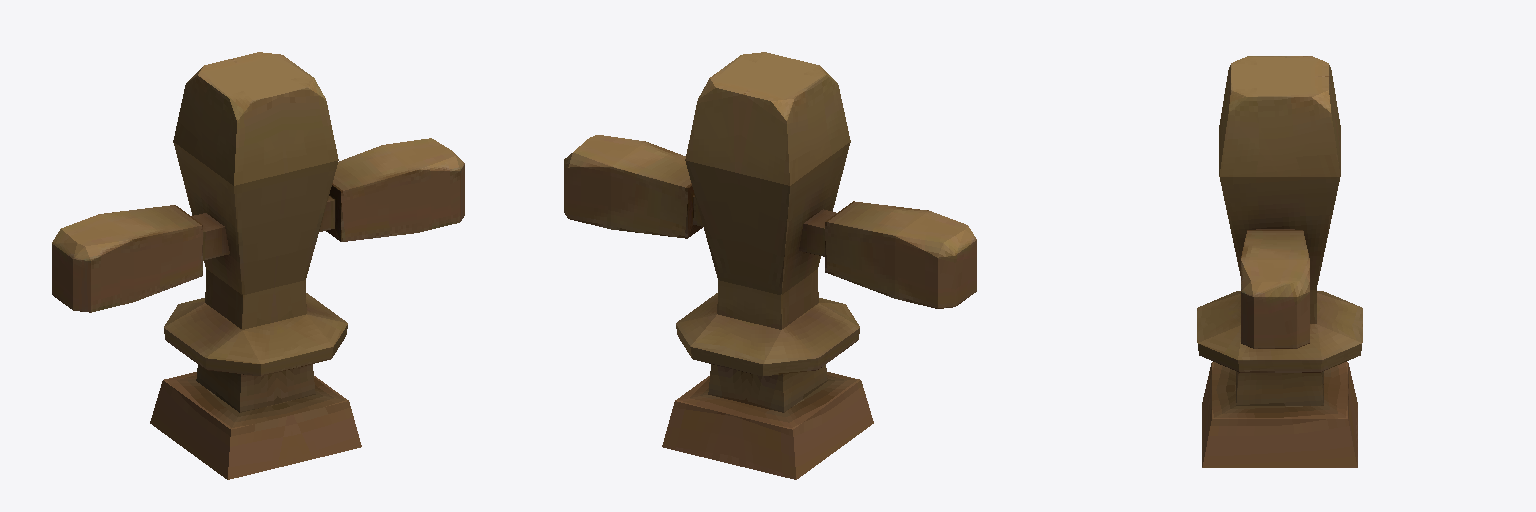
The picture shows the model from 3 angles: view 1: azimuth 30°, elevation 25°; view 2: azimuth 150°, elevation 25°; view 3: azimuth 270°, elevation 25°; orthographic projection.
Parts seen in each view (by area): view 1: OBJ_FLAG_B_01; view 2: OBJ_FLAG_B_01; view 3: OBJ_FLAG_B_01.
Part boxes in pixels (x1,y1,x2,y2): OBJ_FLAG_B_01: (52, 52, 464, 479); OBJ_FLAG_B_01: (564, 52, 976, 479); OBJ_FLAG_B_01: (1197, 56, 1362, 467).
Size of the model in its own units: 1.76 by 1.54 by 0.6425.
Materials: 1 (1 with a texture image).